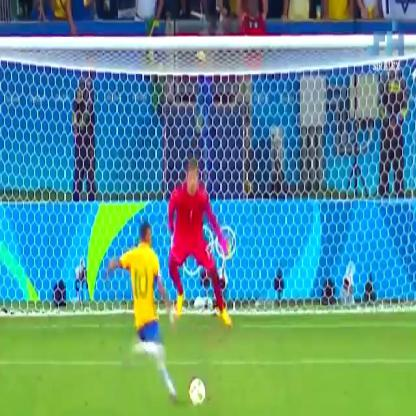penalty kick: (93, 22, 251, 407)
